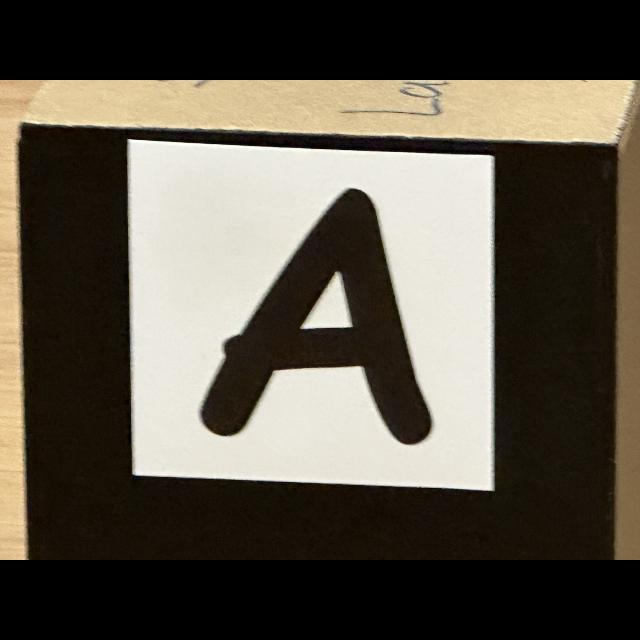A: (201, 189, 431, 444)
